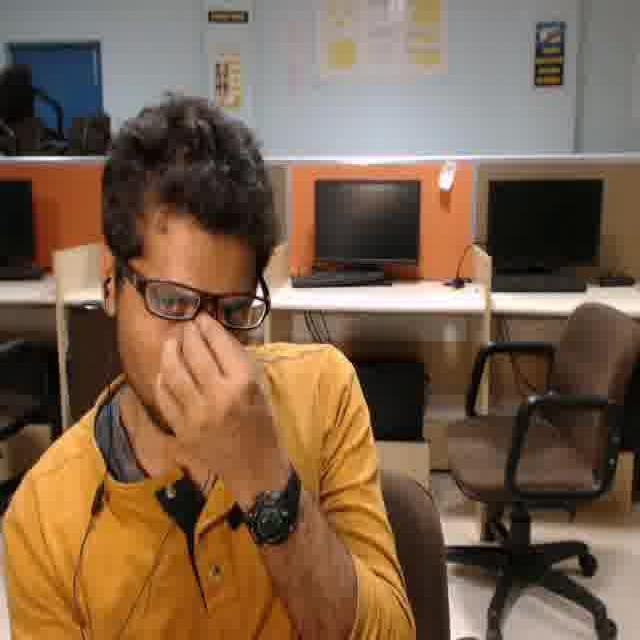Boredom: (123, 212, 245, 421)
